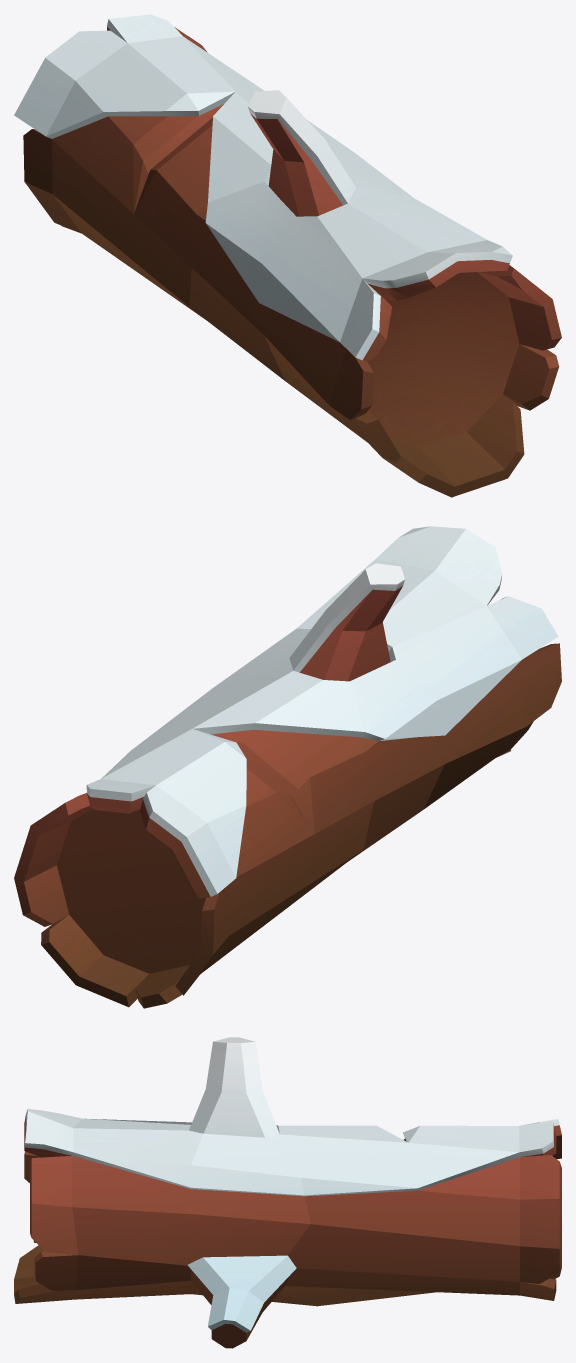
The picture shows the model from 3 angles, top to bottom: view 1: azimuth 30°, elevation 25°; view 2: azimuth 150°, elevation 25°; view 3: azimuth 270°, elevation 25°; orthographic projection. The views are drawn at different scales.
Parts seen in each view (by area): view 1: SnowyTreeLog; view 2: SnowyTreeLog; view 3: SnowyTreeLog.
Part boxes in pixels (x1=…): SnowyTreeLog: x1=14, y1=14, x2=561, y2=497; SnowyTreeLog: x1=14, y1=526, x2=561, y2=1008; SnowyTreeLog: x1=14, y1=1037, x2=561, y2=1348.
Size of the model in its own units: 39.66 by 41.36 by 86.
1 material, 1 textured.
